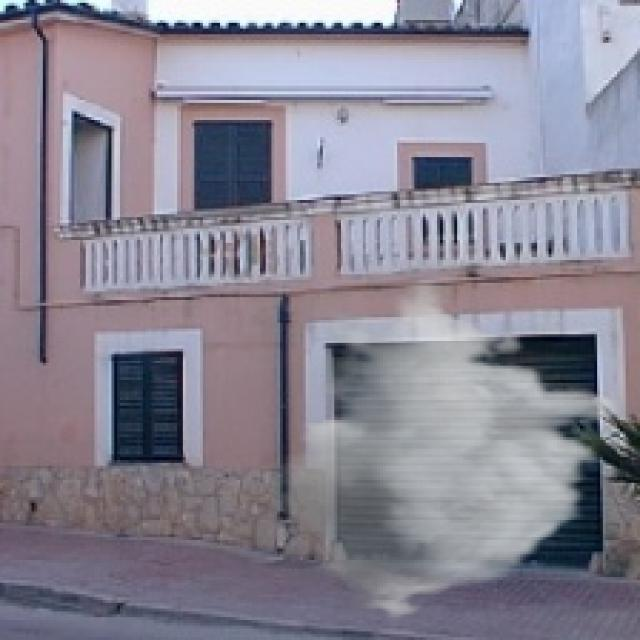Smoke: (257, 277, 623, 623)
